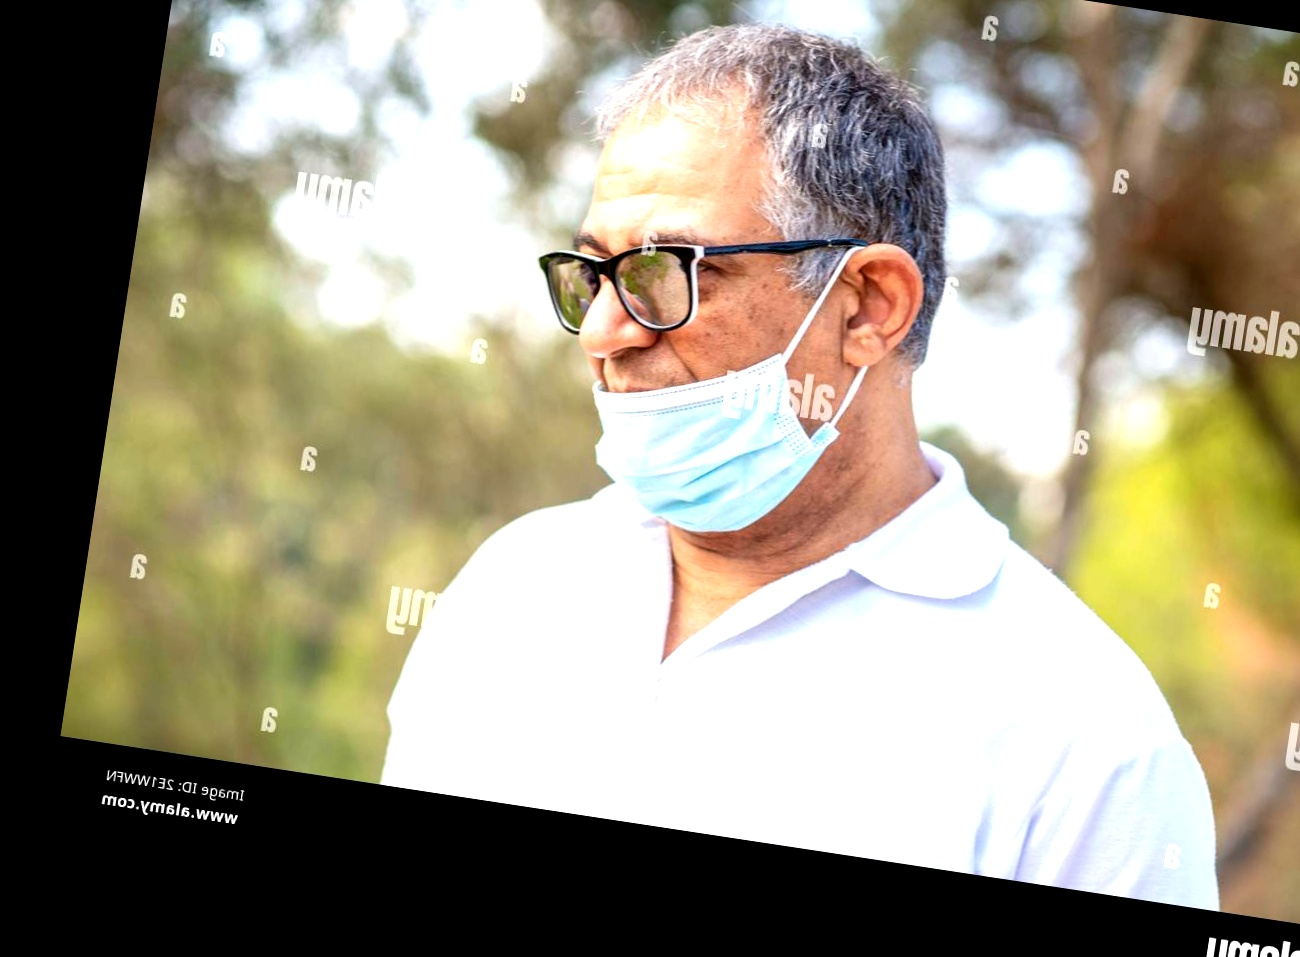mask_weared_incorrect: (548, 34, 913, 520)
